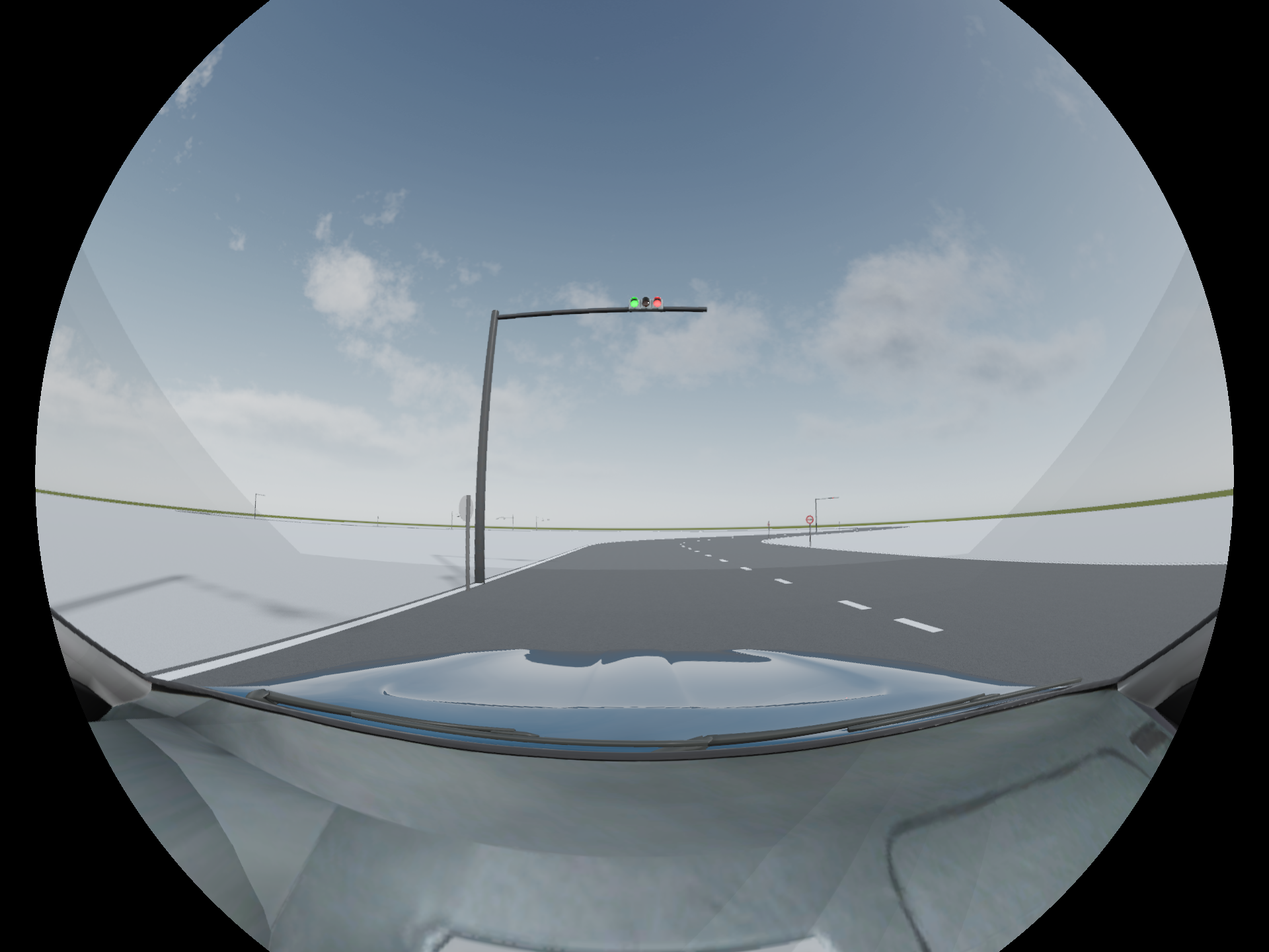Green Light: (626, 294, 664, 317)
